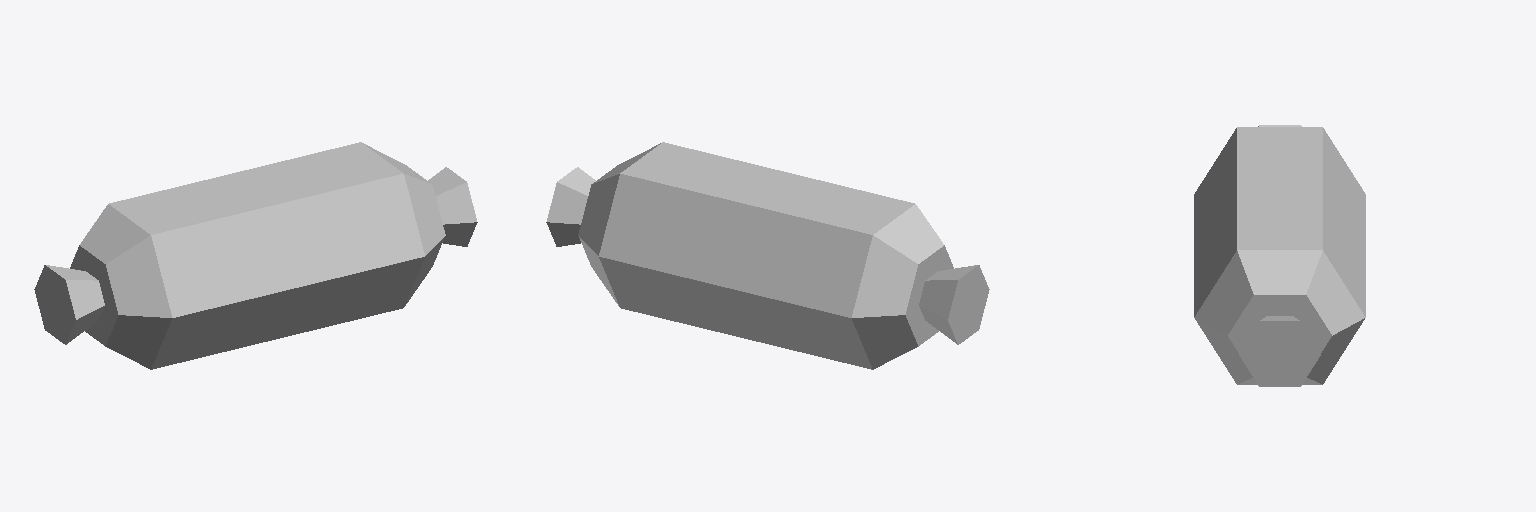
File: sausage.obj
The picture shows the model from 3 angles: view 1: azimuth 30°, elevation 25°; view 2: azimuth 150°, elevation 25°; view 3: azimuth 270°, elevation 25°; orthographic projection.
Visible parts, largest first — view 1: sausage; view 2: sausage; view 3: sausage.
Boxes of the visible parts, x1=… form: sausage: x1=34, y1=142, x2=477, y2=369; sausage: x1=546, y1=142, x2=989, y2=369; sausage: x1=1194, y1=125, x2=1365, y2=386.
Size of the model in its own units: 0.3707 by 0.1189 by 0.1373.